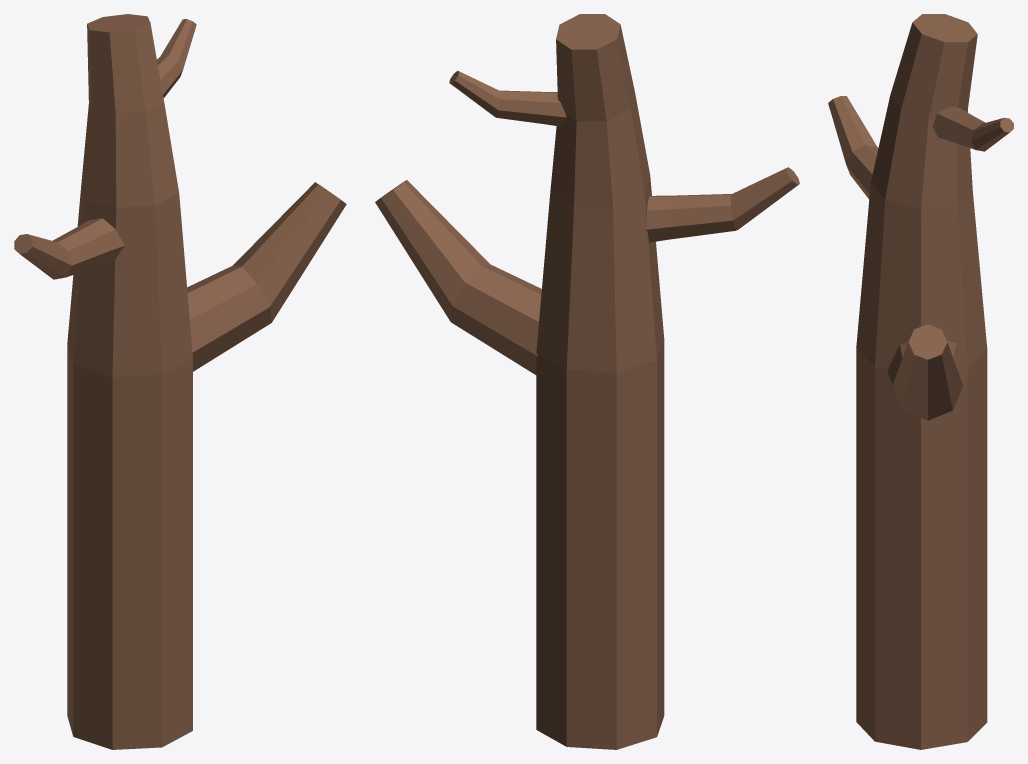
File: Tree3.fbx
3 renders of one model, left to right at view 1: azimuth 30°, elevation 25°; view 2: azimuth 150°, elevation 25°; view 3: azimuth 270°, elevation 25°, orthographic.
Parts seen in each view (by area): view 1: Circle.005; view 2: Circle.005; view 3: Circle.005.
Boxes of the visible parts, x1,y1,x2,y2 form: Circle.005: (14,14,346,749); Circle.005: (375,14,799,749); Circle.005: (828,14,1013,749).
Bounding box in the file's own units: 435 × 779 × 187.
